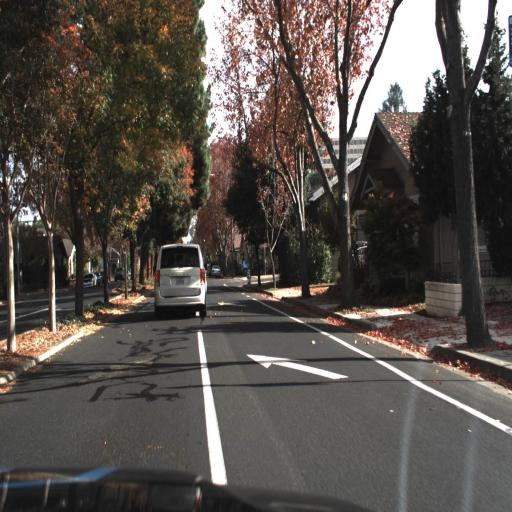car: (150, 237, 209, 322)
